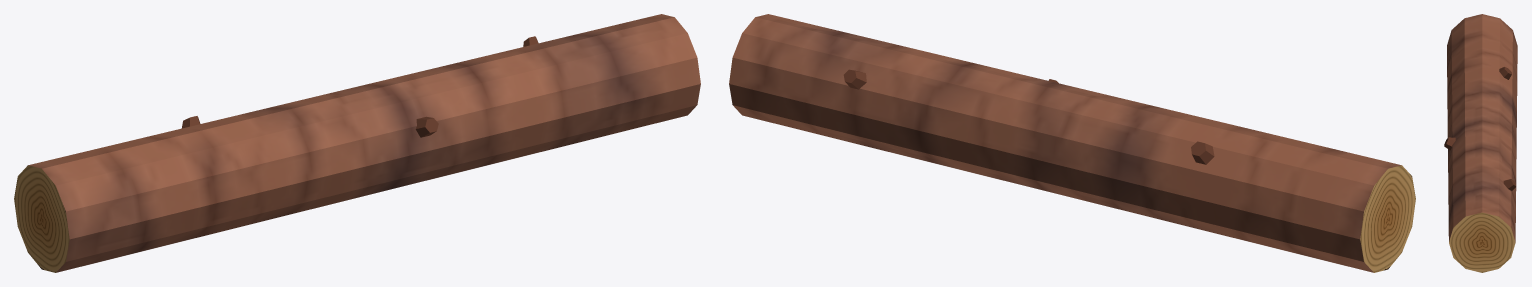
Rendered from trunk.glb.
3 views of the same model, side by side, from view 1: azimuth 30°, elevation 25°; view 2: azimuth 150°, elevation 25°; view 3: azimuth 270°, elevation 25° (orthographic). The views are drawn at different scales.
Visible parts, largest first — view 1: trunk; view 2: trunk; view 3: trunk.
Boxes of the visible parts, box(x1,y1,x2,y2) form: trunk: box(14, 14, 700, 272); trunk: box(729, 14, 1415, 272); trunk: box(1444, 14, 1517, 272).
Size of the model in its own units: 2.3 by 0.3502 by 0.3627.
Materials: 1 (1 with a texture image).
